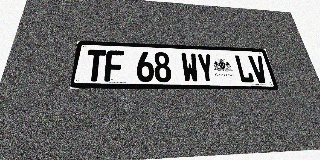6: (137, 51, 154, 82)
8: (154, 52, 172, 82)
F: (104, 50, 124, 82)
L: (234, 55, 255, 83)
T: (84, 49, 106, 81)
V: (248, 55, 269, 83)
W: (181, 53, 200, 82)
Y: (196, 53, 216, 83)
